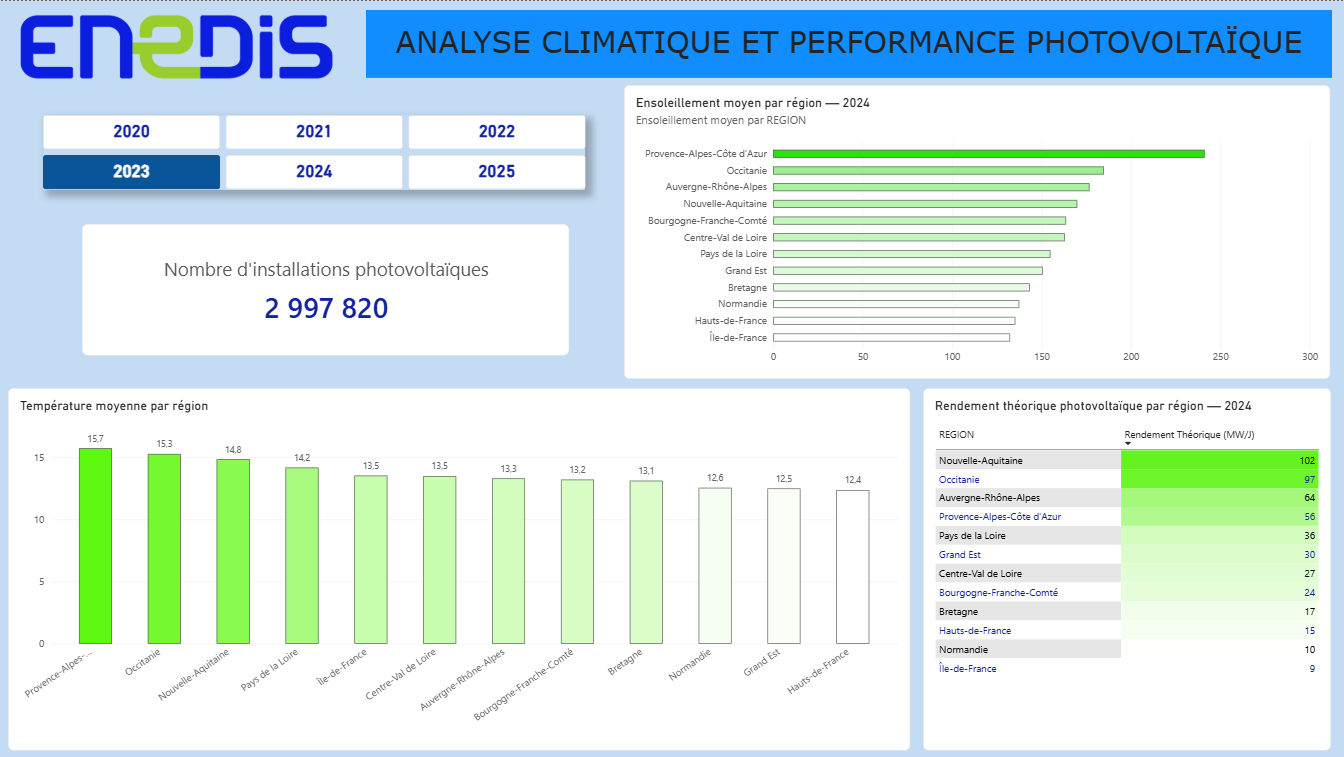

What the dashboard file says about the page in this screenshot:
{"tool":"powerbi","page":{"name":"Analyse climatique et performance photovoltaïque1","canvas":[1920,1080],"ordinal":2},"visuals":[{"type":"cardVisual","fields":{"Data":["Sum(Production énergie renouvelable.NOMBRE INSTALLATIONS)"]},"box":[117,317.9,696.2,188.8],"z":0},{"type":"clusteredColumnChart","title":"Température moyenne par région","fields":{"Category":["Production énergie renouvelable.REGION"],"Y":["Avg(Température moyenne France 2020-2025.Tmoy)"]},"box":[10.8,552.3,1288.8,518.3],"z":1000},{"type":"tableEx","title":"Rendement théorique photovoltaïque par région — 2024","fields":{"Values":["Production énergie renouvelable.REGION","Table des mesures.Rendement Théorique (MW/J)"]},"box":[1318.2,552.3,583.3,518.3],"z":2000},{"type":"barChart","title":"Ensoleillement moyen par région — 2024","fields":{"Category":["Dim Région.REGION"],"Y":["Table des mesures.Ensoleillement moyen"]},"box":[891.9,119.6,1008.8,420.4],"z":3000},{"type":"advancedSlicerVisual","fields":{"Values":["Calendrier.Date.Variation.Hiérarchie de dates.Année"]},"box":[61.2,162.3,775.1,106.8],"z":4000},{"type":"image","box":[26.6,13.3,449.6,106.4],"z":5000},{"type":"textbox","box":[522.5,13.4,1379.6,96.7],"z":5001}]}

Visuals, with their boxes in screenshot pixels (x1, y1, x2, y2), scaled from the page's 1920x1080 canvas onto the 1344x757 screenshot:
cardVisual - Sum(Production énergie renouvelable.NOMBRE INSTALLATIONS): x1=82 y1=223 x2=569 y2=355
"Température moyenne par région" clusteredColumnChart: x1=8 y1=387 x2=910 y2=750
"Rendement théorique photovoltaïque par région — 2024" tableEx: x1=923 y1=387 x2=1331 y2=750
"Ensoleillement moyen par région — 2024" barChart: x1=624 y1=84 x2=1330 y2=378
advancedSlicerVisual - Calendrier.Date.Variation.Hiérarchie de dates.Année: x1=43 y1=114 x2=585 y2=189
image: x1=19 y1=9 x2=333 y2=84
textbox: x1=366 y1=9 x2=1331 y2=77
